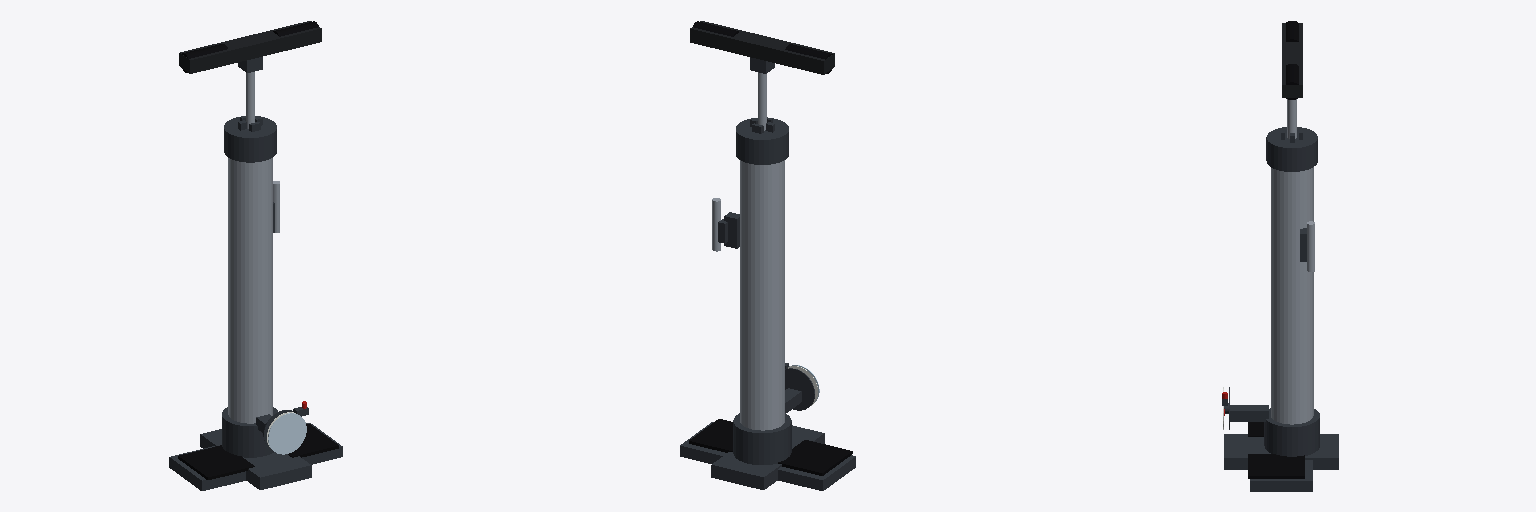
URDF robot description (bicycle_track_pump):
<robot name="bicycle_track_pump">
  <material name="steel">
    <color rgba="0.62 0.65 0.69 1" />
    </material>
  <material name="dark_steel">
    <color rgba="0.24 0.26 0.29 1" />
    </material>
  <material name="black_rubber">
    <color rgba="0.08 0.08 0.09 1" />
    </material>
  <material name="handle_plastic">
    <color rgba="0.16 0.17 0.18 1" />
    </material>
  <material name="gauge_white">
    <color rgba="0.93 0.94 0.92 1" />
    </material>
  <material name="lens_clear">
    <color rgba="0.78 0.86 0.92 0.28" />
    </material>
  <material name="alert_red">
    <color rgba="0.72 0.14 0.12 1" />
    </material>
  <material name="hose_black">
    <color rgba="0.07 0.07 0.08 1" />
    </material>
  <link name="body">
    <visual name="base_beam">
      <origin xyz="0 0 0.011" rpy="0 0 0" />
      <geometry>
        <box size="0.3 0.12 0.022" />
        </geometry>
      <material name="dark_steel">
        <color rgba="0.24 0.26 0.29 1" />
        </material>
      </visual>
    <visual name="base_spine">
      <origin xyz="0 0 0.013" rpy="0 0 0" />
      <geometry>
        <box size="0.11 0.22 0.026" />
        </geometry>
      <material name="dark_steel">
        <color rgba="0.24 0.26 0.29 1" />
        </material>
      </visual>
    <visual name="left_tread">
      <origin xyz="-0.09 -0.01 0.025" rpy="0 0 0" />
      <geometry>
        <box size="0.1 0.11 0.006" />
        </geometry>
      <material name="black_rubber">
        <color rgba="0.08 0.08 0.09 1" />
        </material>
      </visual>
    <visual name="right_tread">
      <origin xyz="0.09 -0.01 0.025" rpy="0 0 0" />
      <geometry>
        <box size="0.1 0.11 0.006" />
        </geometry>
      <material name="black_rubber">
        <color rgba="0.08 0.08 0.09 1" />
        </material>
      </visual>
    <visual name="lower_collar">
      <origin xyz="0 0.02 0.055" rpy="0 0 0" />
      <geometry>
        <cylinder radius="0.053" length="0.07" />
        </geometry>
      <material name="dark_steel">
        <color rgba="0.24 0.26 0.29 1" />
        </material>
      </visual>
    <visual name="barrel">
      <origin xyz="0 0.02 0.34" rpy="0 0 0" />
      <geometry>
        <cylinder radius="0.041" length="0.62" />
        </geometry>
      <material name="steel">
        <color rgba="0.62 0.65 0.69 1" />
        </material>
      </visual>
    <visual name="top_collar">
      <origin xyz="0 0.02 0.65" rpy="0 0 0" />
      <geometry>
        <cylinder radius="0.049" length="0.05" />
        </geometry>
      <material name="dark_steel">
        <color rgba="0.24 0.26 0.29 1" />
        </material>
      </visual>
    <visual name="gland_left">
      <origin xyz="-0.017 0.02 0.675" rpy="0 0 0" />
      <geometry>
        <box size="0.014 0.01 0.028" />
        </geometry>
      <material name="dark_steel">
        <color rgba="0.24 0.26 0.29 1" />
        </material>
      </visual>
    <visual name="gland_right">
      <origin xyz="0.017 0.02 0.675" rpy="0 0 0" />
      <geometry>
        <box size="0.014 0.01 0.028" />
        </geometry>
      <material name="dark_steel">
        <color rgba="0.24 0.26 0.29 1" />
        </material>
      </visual>
    <visual name="gland_front">
      <origin xyz="0 0.003 0.675" rpy="0 0 0" />
      <geometry>
        <box size="0.02 0.008 0.028" />
        </geometry>
      <material name="dark_steel">
        <color rgba="0.24 0.26 0.29 1" />
        </material>
      </visual>
    <visual name="gland_rear">
      <origin xyz="0 0.037 0.675" rpy="0 0 0" />
      <geometry>
        <box size="0.02 0.008 0.028" />
        </geometry>
      <material name="dark_steel">
        <color rgba="0.24 0.26 0.29 1" />
        </material>
      </visual>
    <visual name="gauge_pedestal">
      <origin xyz="0 -0.062 0.094" rpy="0 0 0" />
      <geometry>
        <box size="0.028 0.074 0.022" />
        </geometry>
      <material name="dark_steel">
        <color rgba="0.24 0.26 0.29 1" />
        </material>
      </visual>
    <visual name="hose_brace">
      <origin xyz="0.047 0.044 0.47" rpy="0 0 0" />
      <geometry>
        <box size="0.026 0.02 0.06" />
        </geometry>
      <material name="dark_steel">
        <color rgba="0.24 0.26 0.29 1" />
        </material>
      </visual>
    <visual name="hose_dock">
      <origin xyz="0.06 0.056 0.47" rpy="0 0 0" />
      <geometry>
        <box size="0.014 0.016 0.04" />
        </geometry>
      <material name="dark_steel">
        <color rgba="0.24 0.26 0.29 1" />
        </material>
      </visual>
    <collision name="base_beam">
      <origin xyz="0 0 0.011" rpy="0 0 0" />
      <geometry>
        <box size="0.3 0.12 0.022" />
        </geometry>
      </collision>
    <collision name="base_spine">
      <origin xyz="0 0 0.013" rpy="0 0 0" />
      <geometry>
        <box size="0.11 0.22 0.026" />
        </geometry>
      </collision>
    <collision name="left_tread">
      <origin xyz="-0.09 -0.01 0.025" rpy="0 0 0" />
      <geometry>
        <box size="0.1 0.11 0.006" />
        </geometry>
      </collision>
    <collision name="right_tread">
      <origin xyz="0.09 -0.01 0.025" rpy="0 0 0" />
      <geometry>
        <box size="0.1 0.11 0.006" />
        </geometry>
      </collision>
    <collision name="lower_collar">
      <origin xyz="0 0.02 0.055" rpy="0 0 0" />
      <geometry>
        <cylinder radius="0.053" length="0.07" />
        </geometry>
      </collision>
    <collision name="barrel">
      <origin xyz="0 0.02 0.34" rpy="0 0 0" />
      <geometry>
        <cylinder radius="0.041" length="0.62" />
        </geometry>
      </collision>
    <collision name="top_collar">
      <origin xyz="0 0.02 0.65" rpy="0 0 0" />
      <geometry>
        <cylinder radius="0.049" length="0.05" />
        </geometry>
      </collision>
    <collision name="gland_left">
      <origin xyz="-0.017 0.02 0.675" rpy="0 0 0" />
      <geometry>
        <box size="0.014 0.01 0.028" />
        </geometry>
      </collision>
    <collision name="gland_right">
      <origin xyz="0.017 0.02 0.675" rpy="0 0 0" />
      <geometry>
        <box size="0.014 0.01 0.028" />
        </geometry>
      </collision>
    <collision name="gland_front">
      <origin xyz="0 0.003 0.675" rpy="0 0 0" />
      <geometry>
        <box size="0.02 0.008 0.028" />
        </geometry>
      </collision>
    <collision name="gland_rear">
      <origin xyz="0 0.037 0.675" rpy="0 0 0" />
      <geometry>
        <box size="0.02 0.008 0.028" />
        </geometry>
      </collision>
    <collision name="gauge_pedestal">
      <origin xyz="0 -0.062 0.094" rpy="0 0 0" />
      <geometry>
        <box size="0.028 0.074 0.022" />
        </geometry>
      </collision>
    <collision name="hose_brace">
      <origin xyz="0.047 0.044 0.47" rpy="0 0 0" />
      <geometry>
        <box size="0.026 0.02 0.06" />
        </geometry>
      </collision>
    <collision name="hose_dock">
      <origin xyz="0.06 0.056 0.47" rpy="0 0 0" />
      <geometry>
        <box size="0.014 0.016 0.04" />
        </geometry>
      </collision>
    </link>
  <link name="handle">
    <visual name="rod">
      <origin xyz="0 0 0.065" rpy="0 0 0" />
      <geometry>
        <cylinder radius="0.009" length="0.13" />
        </geometry>
      <material name="steel">
        <color rgba="0.62 0.65 0.69 1" />
        </material>
      </visual>
    <visual name="carrier">
      <origin xyz="0 0 0.141" rpy="0 0 0" />
      <geometry>
        <box size="0.034 0.034 0.042" />
        </geometry>
      <material name="dark_steel">
        <color rgba="0.24 0.26 0.29 1" />
        </material>
      </visual>
    <visual name="crossbar">
      <origin xyz="0 0 0.162" rpy="0 0 0" />
      <geometry>
        <box size="0.28 0.04 0.028" />
        </geometry>
      <material name="handle_plastic">
        <color rgba="0.16 0.17 0.18 1" />
        </material>
      </visual>
    <visual name="left_grip">
      <origin xyz="-0.097 0 0.162" rpy="0 1.5708 0" />
      <geometry>
        <cylinder radius="0.019" length="0.085" />
        </geometry>
      <material name="black_rubber">
        <color rgba="0.08 0.08 0.09 1" />
        </material>
      </visual>
    <visual name="right_grip">
      <origin xyz="0.097 0 0.162" rpy="0 1.5708 0" />
      <geometry>
        <cylinder radius="0.019" length="0.085" />
        </geometry>
      <material name="black_rubber">
        <color rgba="0.08 0.08 0.09 1" />
        </material>
      </visual>
    <collision name="rod">
      <origin xyz="0 0 0.065" rpy="0 0 0" />
      <geometry>
        <cylinder radius="0.009" length="0.13" />
        </geometry>
      </collision>
    <collision name="carrier">
      <origin xyz="0 0 0.141" rpy="0 0 0" />
      <geometry>
        <box size="0.034 0.034 0.042" />
        </geometry>
      </collision>
    <collision name="crossbar">
      <origin xyz="0 0 0.162" rpy="0 0 0" />
      <geometry>
        <box size="0.28 0.04 0.028" />
        </geometry>
      </collision>
    <collision name="left_grip">
      <origin xyz="-0.097 0 0.162" rpy="0 1.5708 0" />
      <geometry>
        <cylinder radius="0.019" length="0.085" />
        </geometry>
      </collision>
    <collision name="right_grip">
      <origin xyz="0.097 0 0.162" rpy="0 1.5708 0" />
      <geometry>
        <cylinder radius="0.019" length="0.085" />
        </geometry>
      </collision>
    </link>
  <link name="gauge">
    <visual name="housing">
      <geometry>
        <mesh filename="assets/meshes/gauge_housing.obj" />
        </geometry>
      <material name="dark_steel">
        <color rgba="0.24 0.26 0.29 1" />
        </material>
      </visual>
    <visual name="dial_face">
      <origin xyz="0 -0.004 0" rpy="-1.5708 0 0" />
      <geometry>
        <cylinder radius="0.041" length="0.001" />
        </geometry>
      <material name="gauge_white">
        <color rgba="0.93 0.94 0.92 1" />
        </material>
      </visual>
    <visual name="lens">
      <origin xyz="0 -0.009 0" rpy="-1.5708 0 0" />
      <geometry>
        <cylinder radius="0.041" length="0.001" />
        </geometry>
      <material name="lens_clear">
        <color rgba="0.78 0.86 0.92 0.28" />
        </material>
      </visual>
    <visual name="rear_cap">
      <origin xyz="0 0.008 0" rpy="-1.5708 0 0" />
      <geometry>
        <cylinder radius="0.041" length="0.002" />
        </geometry>
      <material name="dark_steel">
        <color rgba="0.24 0.26 0.29 1" />
        </material>
      </visual>
    <visual name="stem">
      <origin xyz="0 0.003 0" rpy="-1.5708 0 0" />
      <geometry>
        <cylinder radius="0.01" length="0.01" />
        </geometry>
      <material name="dark_steel">
        <color rgba="0.24 0.26 0.29 1" />
        </material>
      </visual>
    <visual name="spindle">
      <origin xyz="0 -0.0035 0" rpy="-1.5708 0 0" />
      <geometry>
        <cylinder radius="0.0035" length="0.001" />
        </geometry>
      <material name="dark_steel">
        <color rgba="0.24 0.26 0.29 1" />
        </material>
      </visual>
    <visual name="button_mount">
      <origin xyz="0.034 -0.001 0.034" rpy="0 0 0" />
      <geometry>
        <box size="0.026 0.012 0.014" />
        </geometry>
      <material name="dark_steel">
        <color rgba="0.24 0.26 0.29 1" />
        </material>
      </visual>
    <collision name="housing">
      <geometry>
        <mesh filename="assets/meshes/gauge_housing.obj" />
        </geometry>
      </collision>
    <collision name="dial_face">
      <origin xyz="0 -0.004 0" rpy="-1.5708 0 0" />
      <geometry>
        <cylinder radius="0.041" length="0.001" />
        </geometry>
      </collision>
    <collision name="lens">
      <origin xyz="0 -0.009 0" rpy="-1.5708 0 0" />
      <geometry>
        <cylinder radius="0.041" length="0.001" />
        </geometry>
      </collision>
    <collision name="rear_cap">
      <origin xyz="0 0.008 0" rpy="-1.5708 0 0" />
      <geometry>
        <cylinder radius="0.041" length="0.002" />
        </geometry>
      </collision>
    <collision name="stem">
      <origin xyz="0 0.003 0" rpy="-1.5708 0 0" />
      <geometry>
        <cylinder radius="0.01" length="0.01" />
        </geometry>
      </collision>
    <collision name="spindle">
      <origin xyz="0 -0.0035 0" rpy="-1.5708 0 0" />
      <geometry>
        <cylinder radius="0.0035" length="0.001" />
        </geometry>
      </collision>
    <collision name="button_mount">
      <origin xyz="0.034 -0.001 0.034" rpy="0 0 0" />
      <geometry>
        <box size="0.026 0.012 0.014" />
        </geometry>
      </collision>
    </link>
  <link name="needle">
    <visual name="pointer">
      <origin xyz="0.015 -0.002 0" rpy="0 0 0" />
      <geometry>
        <box size="0.03 0.0012 0.003" />
        </geometry>
      <material name="alert_red">
        <color rgba="0.72 0.14 0.12 1" />
        </material>
      </visual>
    <visual name="counterweight">
      <origin xyz="-0.005 -0.002 0" rpy="0 0 0" />
      <geometry>
        <box size="0.01 0.0012 0.003" />
        </geometry>
      <material name="alert_red">
        <color rgba="0.72 0.14 0.12 1" />
        </material>
      </visual>
    <visual name="pivot">
      <origin xyz="0 -0.002 0" rpy="-1.5708 0 0" />
      <geometry>
        <cylinder radius="0.0045" length="0.002" />
        </geometry>
      <material name="dark_steel">
        <color rgba="0.24 0.26 0.29 1" />
        </material>
      </visual>
    <collision name="pointer">
      <origin xyz="0.015 -0.002 0" rpy="0 0 0" />
      <geometry>
        <box size="0.03 0.0012 0.003" />
        </geometry>
      </collision>
    <collision name="counterweight">
      <origin xyz="-0.005 -0.002 0" rpy="0 0 0" />
      <geometry>
        <box size="0.01 0.0012 0.003" />
        </geometry>
      </collision>
    <collision name="pivot">
      <origin xyz="0 -0.002 0" rpy="-1.5708 0 0" />
      <geometry>
        <cylinder radius="0.0045" length="0.002" />
        </geometry>
      </collision>
    </link>
  <link name="button">
    <visual name="button_cap">
      <origin xyz="0 0 0.005" rpy="0 0 0" />
      <geometry>
        <cylinder radius="0.0055" length="0.01" />
        </geometry>
      <material name="alert_red">
        <color rgba="0.72 0.14 0.12 1" />
        </material>
      </visual>
    <collision name="button_cap">
      <origin xyz="0 0 0.005" rpy="0 0 0" />
      <geometry>
        <cylinder radius="0.0055" length="0.01" />
        </geometry>
      </collision>
    </link>
  <link name="hose">
    <visual name="hose_tube">
      <geometry>
        <mesh filename="assets/meshes/pump_hose.obj" />
        </geometry>
      <material name="hose_black">
        <color rgba="0.07 0.07 0.08 1" />
        </material>
      </visual>
    <visual name="nozzle">
      <origin xyz="0.075 0.056 0.48" rpy="0 0 0" />
      <geometry>
        <cylinder radius="0.008" length="0.1" />
        </geometry>
      <material name="steel">
        <color rgba="0.62 0.65 0.69 1" />
        </material>
      </visual>
    <collision name="hose_tube">
      <geometry>
        <mesh filename="assets/meshes/pump_hose.obj" />
        </geometry>
      </collision>
    <collision name="nozzle">
      <origin xyz="0.075 0.056 0.48" rpy="0 0 0" />
      <geometry>
        <cylinder radius="0.008" length="0.1" />
        </geometry>
      </collision>
    </link>
  <joint name="pump_stroke" type="prismatic">
    <origin xyz="0 0.02 0.675" rpy="0 0 0" />
    <parent link="body" />
    <child link="handle" />
    <axis xyz="0 0 1" />
    <limit effort="180" velocity="0.7" lower="0" upper="0.26" />
    </joint>
  <joint name="gauge_mount" type="fixed">
    <origin xyz="0 -0.107 0.105" rpy="0 0 0" />
    <parent link="body" />
    <child link="gauge" />
    </joint>
  <joint name="needle_sweep" type="revolute">
    <parent link="gauge" />
    <child link="needle" />
    <axis xyz="0 -1 0" />
    <limit effort="0.05" velocity="4" lower="-0.95" upper="0.95" />
    </joint>
  <joint name="button_press" type="prismatic">
    <origin xyz="0.041 -0.001 0.041" rpy="0 0 0" />
    <parent link="gauge" />
    <child link="button" />
    <axis xyz="0 0 1" />
    <limit effort="4" velocity="0.04" lower="0" upper="0.002" />
    </joint>
  <joint name="hose_mount" type="fixed">
    <parent link="body" />
    <child link="hose" />
    </joint>
  </robot>

--- What the picture shows (computed from the rendered views, not written in the file) ---
Views: 3 orthographic renders of the robot side by side, from view 1: azimuth 30°, elevation 25°; view 2: azimuth 150°, elevation 25°; view 3: azimuth 270°, elevation 25°.
Robot: bicycle_track_pump — 6 links, 5 joints (1 revolute, 2 prismatic, 2 fixed); root link body; default pose: all joints at 0.
Visible links, largest first — view 1: body, handle, gauge; view 2: body, handle, gauge; view 3: body, handle.
Boxes of the visible links, bbox=[...] form: body: bbox=[169, 116, 342, 490]; handle: bbox=[179, 21, 321, 128]; gauge: bbox=[263, 407, 308, 454]; body: bbox=[680, 117, 855, 490]; handle: bbox=[690, 21, 834, 130]; gauge: bbox=[785, 363, 819, 410]; body: bbox=[1224, 127, 1338, 491]; handle: bbox=[1282, 21, 1302, 138].
Size in the robot's own frame: 0.3 by 0.2265 by 0.856 metres.
0 mesh visuals loaded from 2 distinct referenced files (none loaded); not drawn: 2 (reference not matched to a file when rendering).
